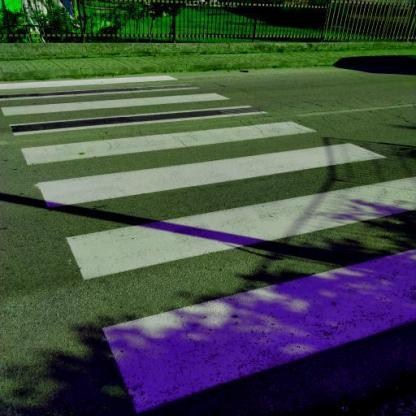crosswalk: (16, 116, 388, 218)
